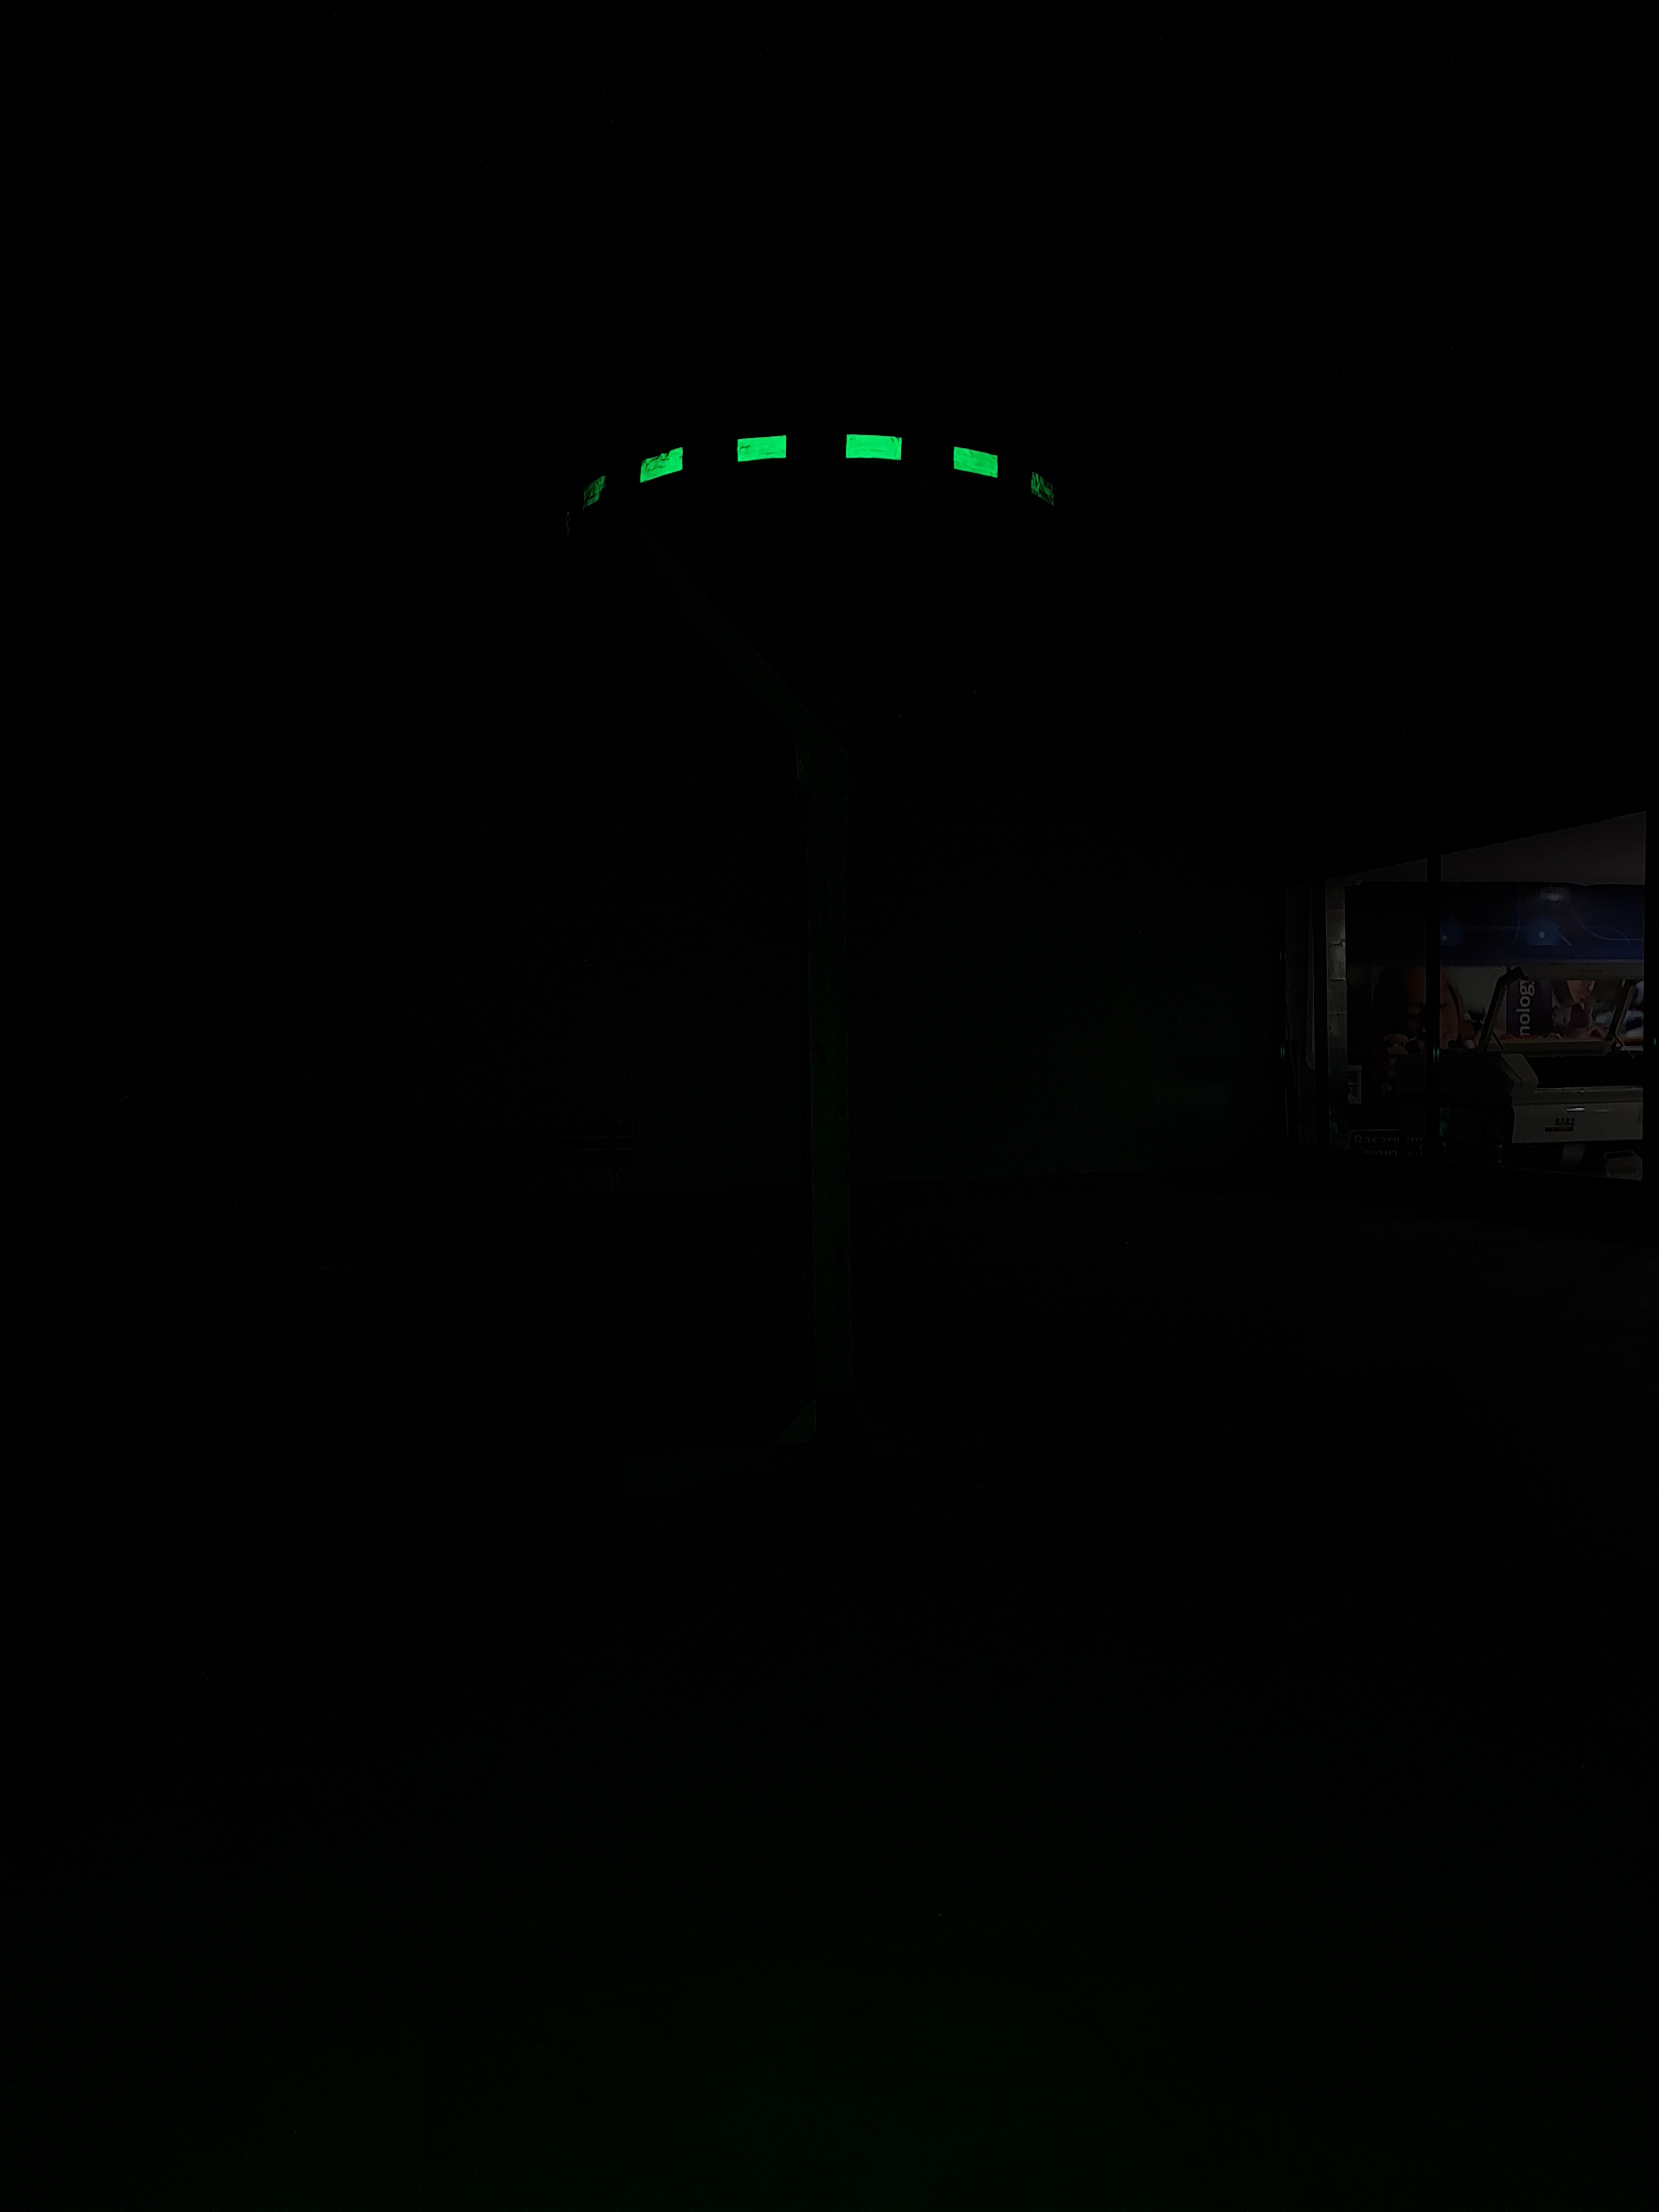hoop: (525, 425, 1082, 523)
